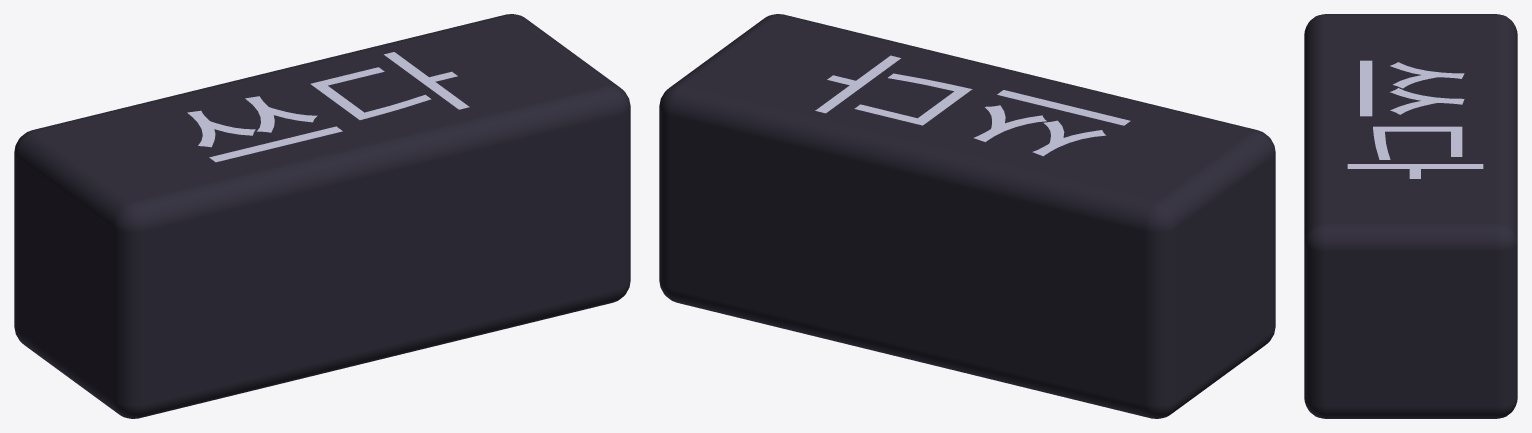
Rendered from write.glb.
3 views of the same model, side by side, from view 1: azimuth 30°, elevation 25°; view 2: azimuth 150°, elevation 25°; view 3: azimuth 270°, elevation 25° (orthographic). The views are drawn at different scales.
Parts seen in each view (by area): view 1: Cut, Extrude; view 2: Cut, Extrude; view 3: Cut, Extrude.
Part boxes in pixels (x1=…): Cut: x1=14, y1=14, x2=630, y2=418; Extrude: x1=187, y1=52, x2=469, y2=162; Cut: x1=659, y1=14, x2=1275, y2=418; Extrude: x1=815, y1=55, x2=1130, y2=156; Cut: x1=1304, y1=14, x2=1517, y2=418; Extrude: x1=1347, y1=60, x2=1483, y2=178.
Size of the model in its own units: 5 by 2 by 2.
